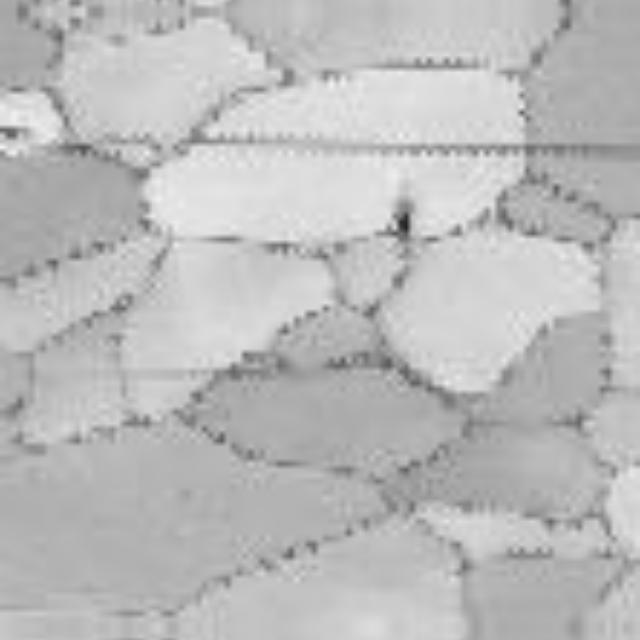good_void: (388, 205, 416, 250)
